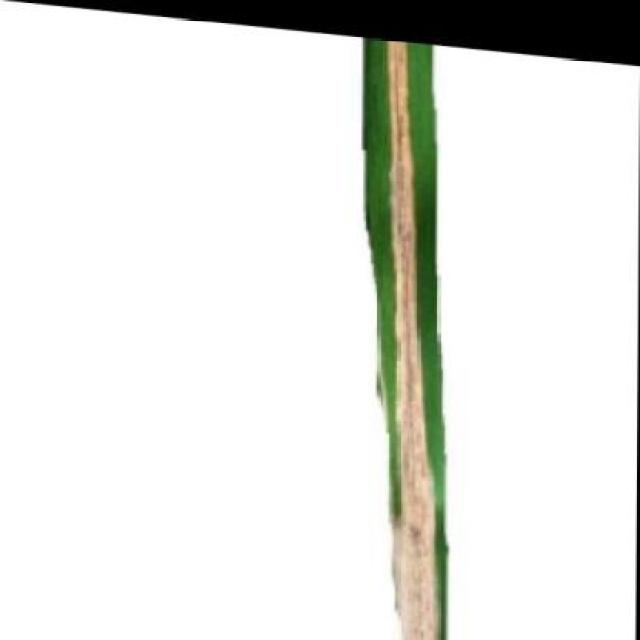Brown_Spot: (352, 29, 458, 640)
